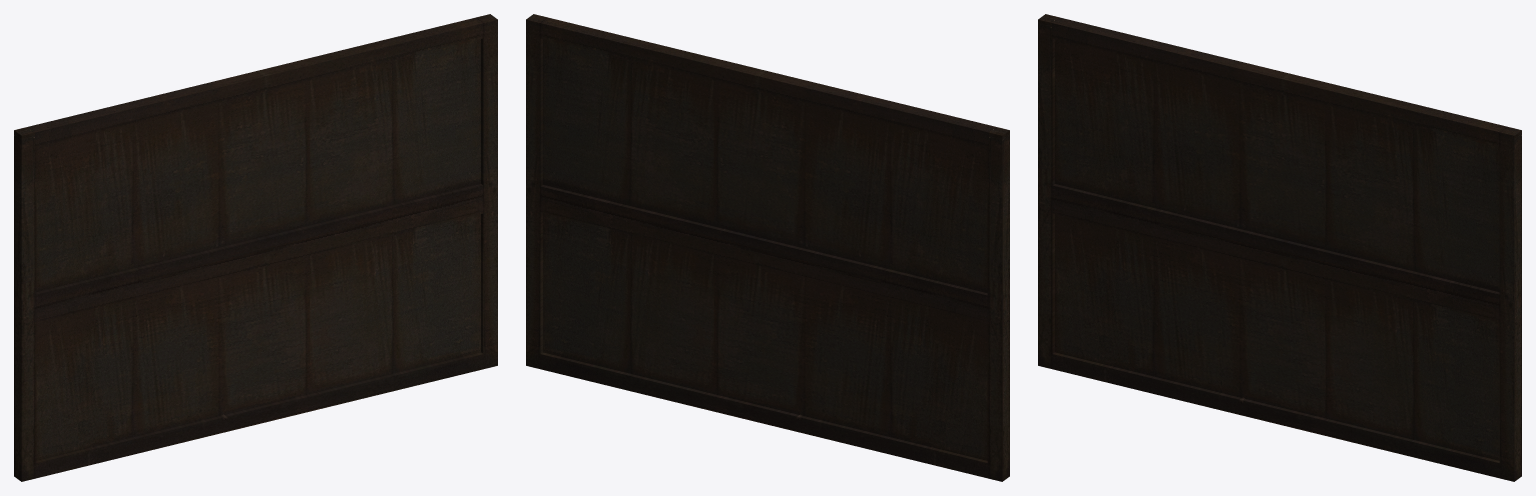
File: metal_fence_hr_1.glb
3 renders of one model, left to right at view 1: azimuth 30°, elevation 25°; view 2: azimuth 150°, elevation 25°; view 3: azimuth 330°, elevation 25°, orthographic.
Parts seen in each view (by area): view 1: metal_fence_hr_1; view 2: metal_fence_hr_1; view 3: metal_fence_hr_1.
Boxes of the visible parts, x1=… form: metal_fence_hr_1: x1=14, y1=14, x2=497, y2=481; metal_fence_hr_1: x1=526, y1=14, x2=1009, y2=481; metal_fence_hr_1: x1=1038, y1=14, x2=1521, y2=481.
Size of the model in its own units: 3.6 by 2.5 by 0.1.
Materials: 1 (1 with a texture image).
